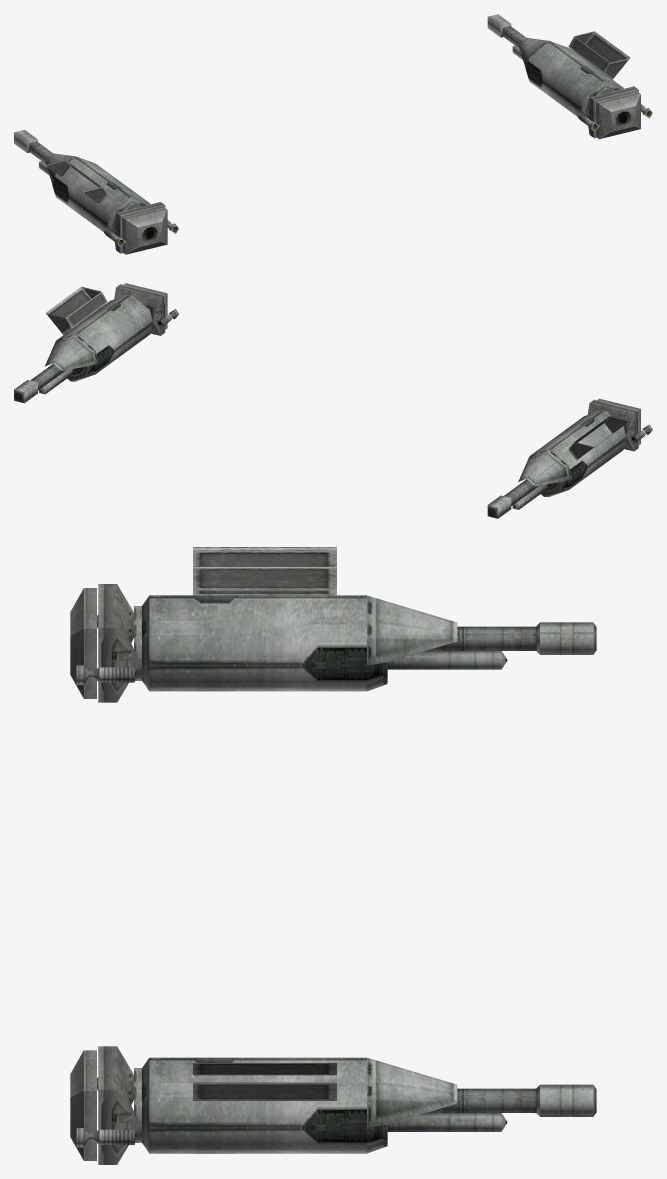
The model's file is black_sun_fighter_medium_weapon1_s03_l1.fbx.
3 renders of one model, top to bottom at view 1: azimuth 30°, elevation 25°; view 2: azimuth 150°, elevation 25°; view 3: azimuth 270°, elevation 25°, orthographic. The views are drawn at different scales.
Visible parts, largest first — view 1: mesh_node; view 2: mesh_node; view 3: mesh_node.
Part boxes in pixels (bbox=[...]): mesh_node: bbox=[14, 14, 652, 254]; mesh_node: bbox=[14, 283, 652, 518]; mesh_node: bbox=[70, 547, 596, 1164].
Bounding box in the file's own units: 13.83 × 1.3 × 5.74.
Materials: 1 (1 with a texture image).
